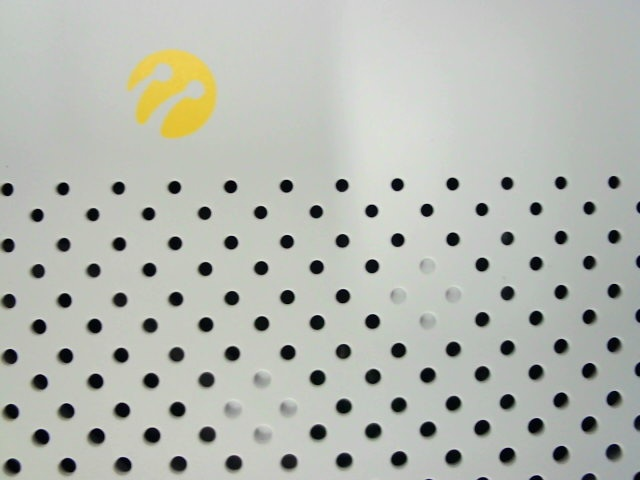AV_H3600Yellow: (116, 42, 226, 145)
